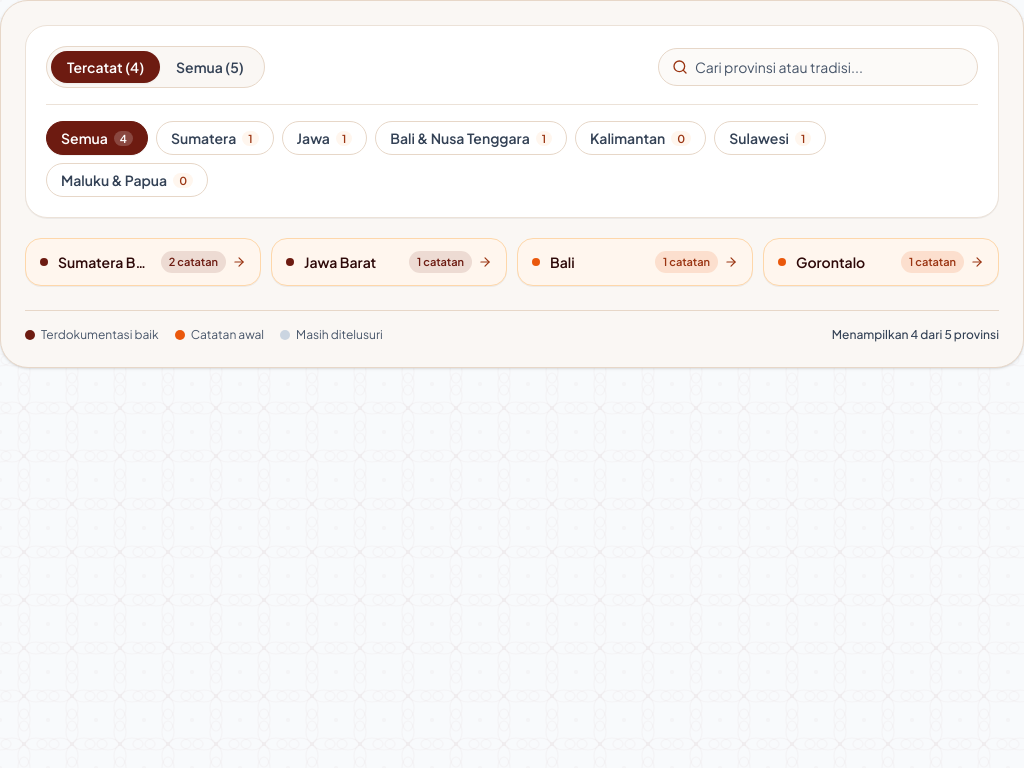
Scenario: ProvinceExplorer › menampilkan Sebutan lokal secara jelas di dalam modal dialog provinsi
The width and height of the screenshot is (1024, 768).
// Klik Gorontalo yang memiliki entitas regional_term Langga
Click the button "Gorontalo 1 catatan": (881,262) [763,238,999,286]
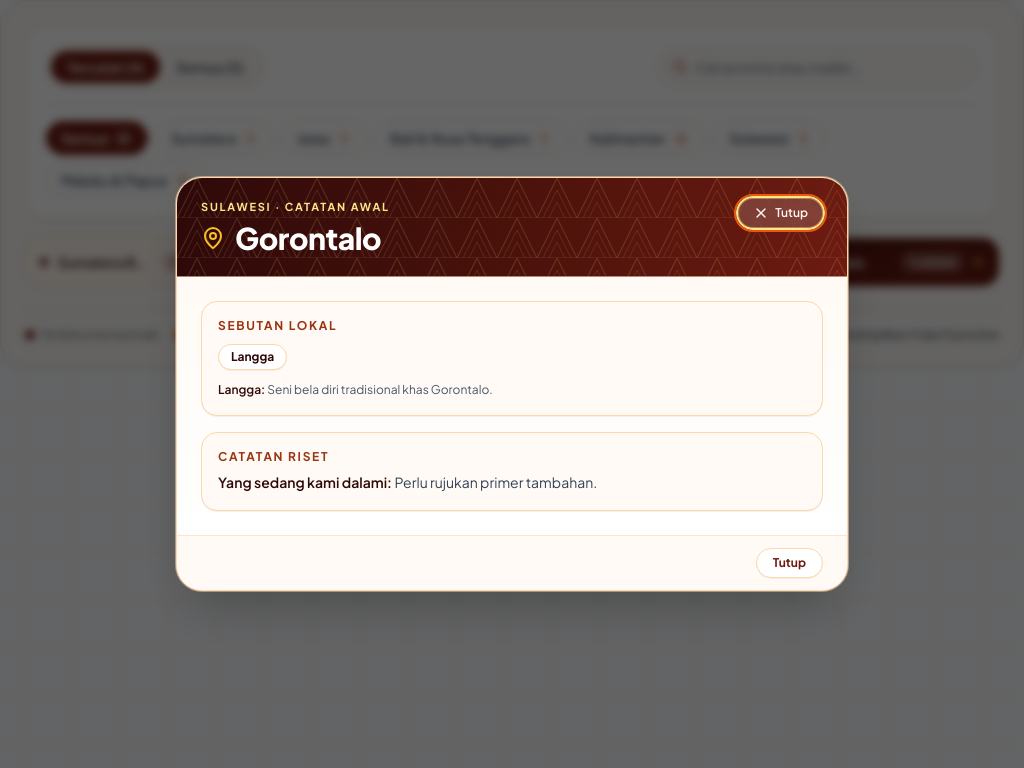
Expected: the heading "Gorontalo" is shown, [201,220,390,256]
Expected: the text "Sebutan lokal" is shown, [218,318,337,333]
Expected: the text "Langga" is shown, [218,344,287,370]
